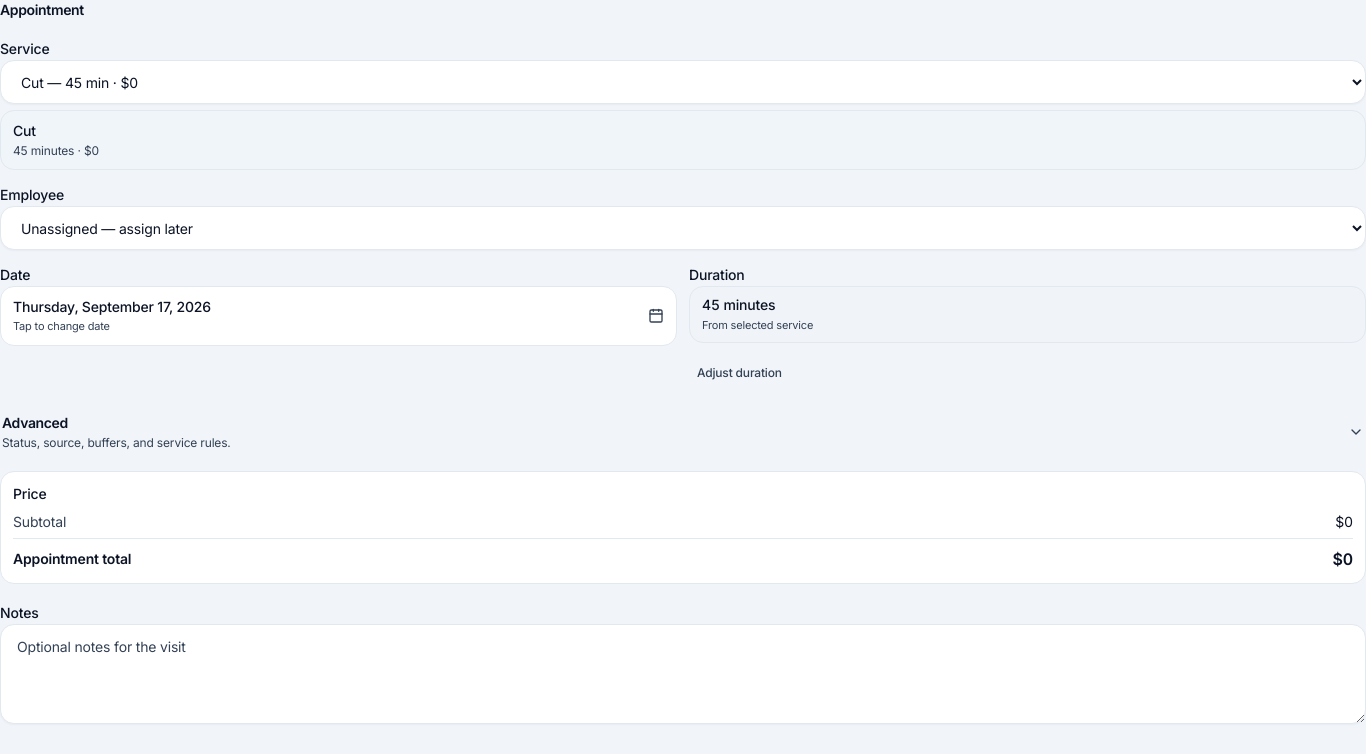
Test case: cancelled Booking Sheet terminal UI › does not offer Cancelled as a generic active status choice
This screenshot has width=1366, height=754.
What coordinates should you click on to do the following:
click the button "Advanced Status, source, buffers, and service rules."
I would click on:
 (35, 422)
Its box is [0, 408, 1365, 454].
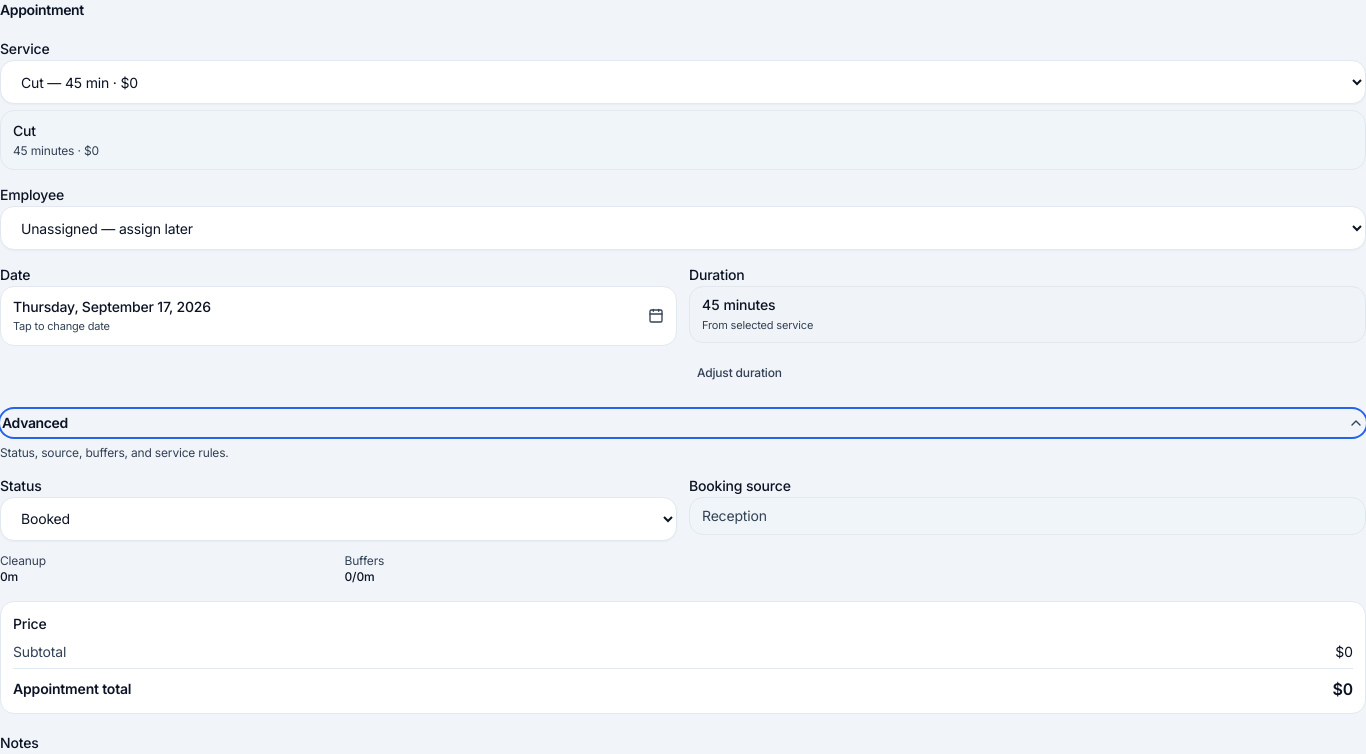
Now the dropdown labelled "Status" is enabled, box [0, 496, 677, 540]
Now the dropdown labelled "Status" shows "Booked", box [0, 496, 677, 540]
